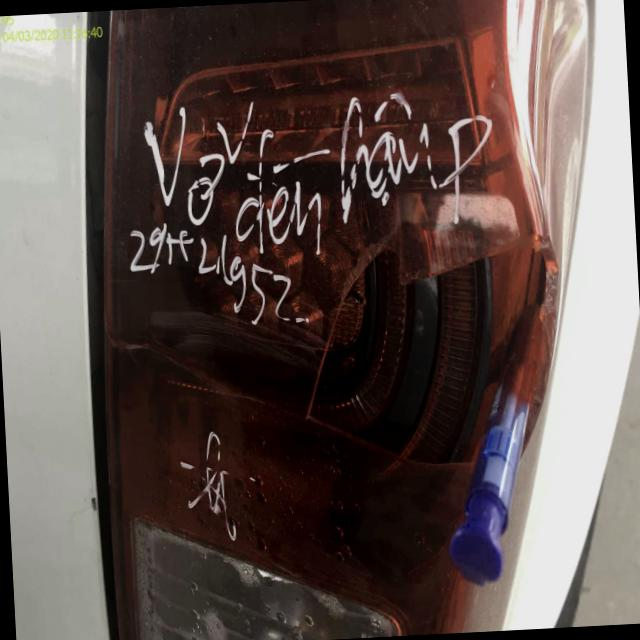Phare abime: (227, 234, 579, 501)
